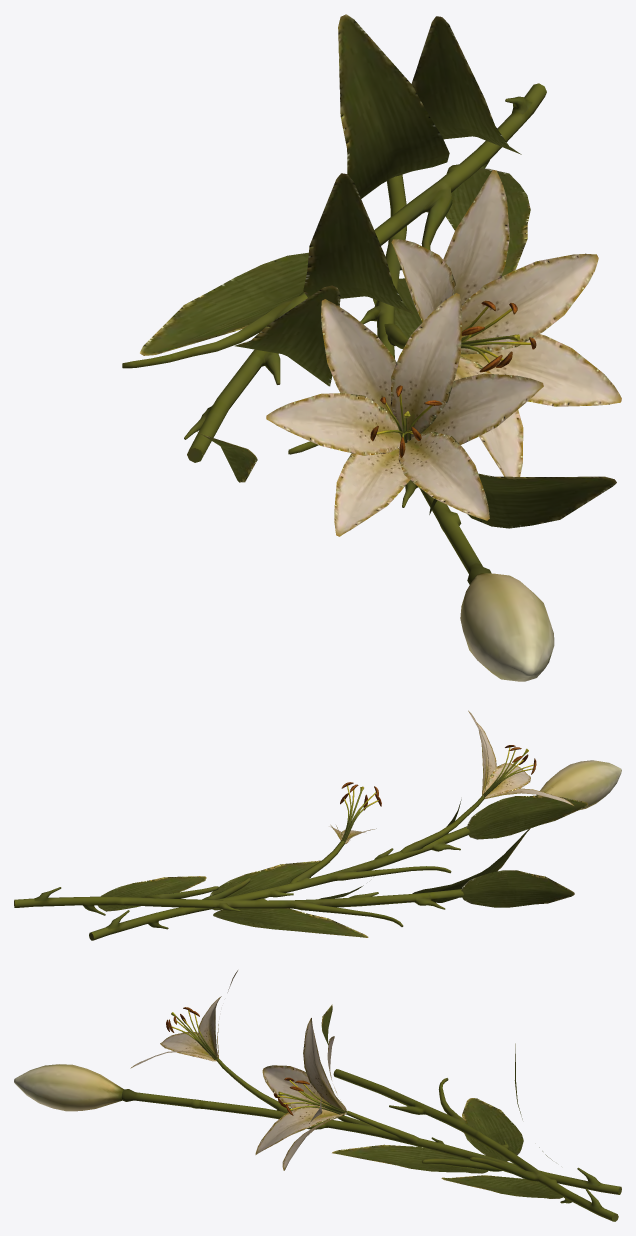
The model's file is SM_lilies_1ceeee.glb.
3 views of the same model, one above another, from view 1: azimuth 30°, elevation 25°; view 2: azimuth 150°, elevation 25°; view 3: azimuth 270°, elevation 25° (orthographic). The views are drawn at different scales.
Bounding box in the file's own units: 0.4657 × 0.1562 × 0.5831.
1 material, 1 textured.
